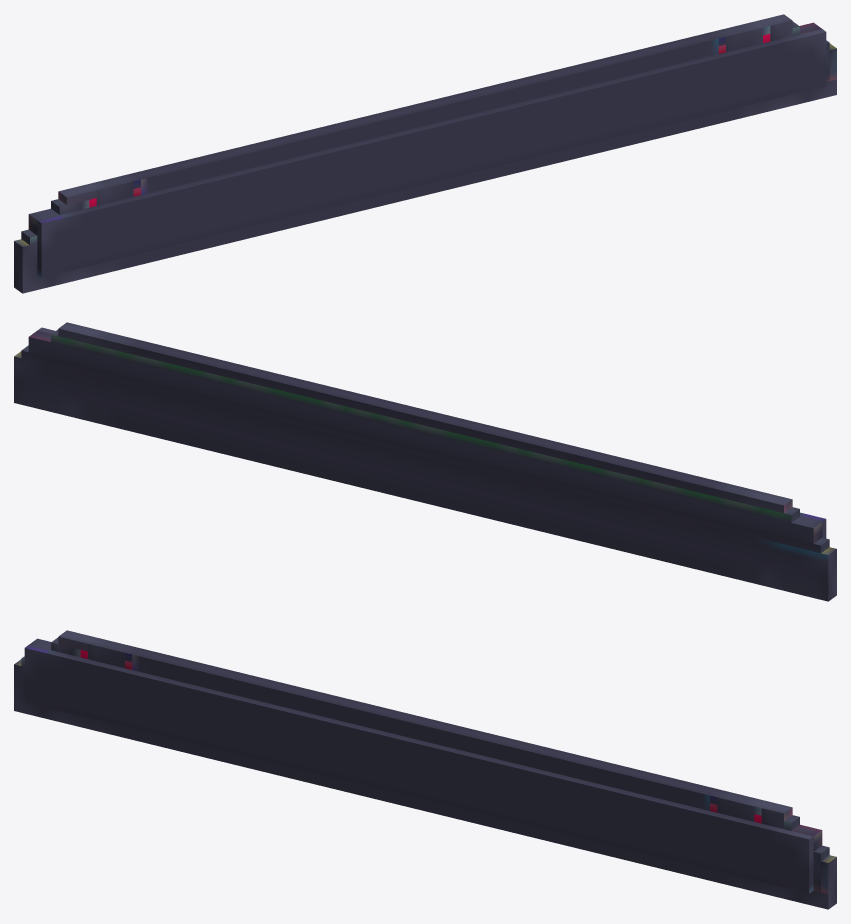
File: Electronics_Plate_Long_B_00.fbx
3 views of the same model, one above another, from view 1: azimuth 30°, elevation 25°; view 2: azimuth 150°, elevation 25°; view 3: azimuth 330°, elevation 25° (orthographic).
Parts seen in each view (by area): view 1: Electronics_Plate_Long_B_00; view 2: Electronics_Plate_Long_B_00; view 3: Electronics_Plate_Long_B_00.
Part boxes in pixels (box(x1,y1,x2,y2)): Electronics_Plate_Long_B_00: box(14, 14, 836, 293); Electronics_Plate_Long_B_00: box(14, 322, 836, 601); Electronics_Plate_Long_B_00: box(14, 630, 836, 909).
Bounding box in the file's own units: 550 × 55 × 15.
